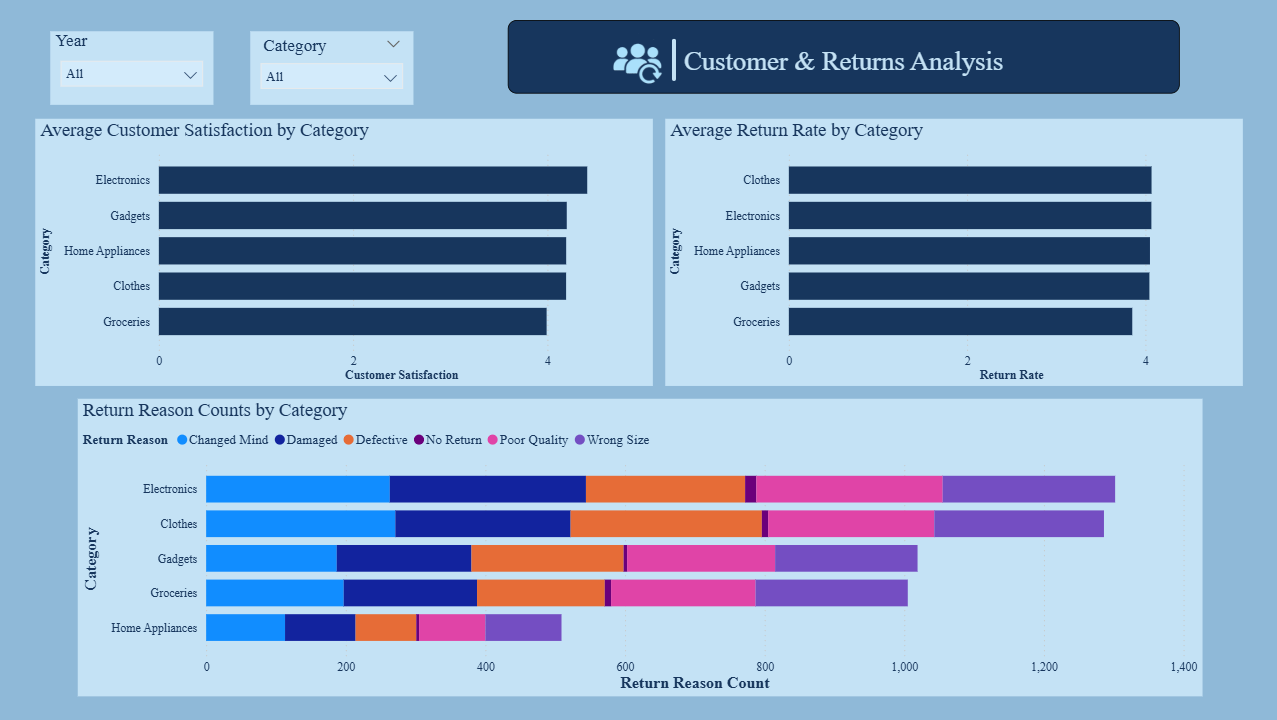

This screenshot's page, from the dashboard's own definition file:
{"tool":"powerbi","page":{"name":"Customer & Returns Analysis","canvas":[1280,720],"ordinal":2},"visuals":[{"type":"clusteredBarChart","title":"Average Customer Satisfaction by Category","fields":{"Category":["BrandX_India_Dataset_Analysis.Category"],"Y":["Avg(BrandX_India_Dataset_Analysis.Customer_Satisfaction)"]},"box":[36.2,118.8,617.5,267.5],"z":0},{"type":"barChart","title":"Return Reason Counts by Category ","fields":{"Category":["BrandX_India_Dataset_Analysis.Category"],"Series":["BrandX_India_Dataset_Analysis.Return_Reason"],"Y":["CountNonNull(BrandX_India_Dataset_Analysis.Return_Reason)"]},"box":[78.8,398.8,1125,297.5],"z":1000},{"type":"clusteredBarChart","title":"Average Return Rate by Category","fields":{"Category":["BrandX_India_Dataset_Analysis.Category"],"Y":["Avg(BrandX_India_Dataset_Analysis.Return_Rate)"]},"box":[666.2,118.8,577.5,267.5],"z":2000},{"type":"slicer","title":"Year","fields":{"Values":["BrandX_India_Dataset_Analysis.Year"]},"box":[50.7,31.4,162.9,73.6],"z":3000},{"type":"slicer","fields":{"Values":["BrandX_India_Dataset_Analysis.Category"]},"box":[250.9,31.4,162.9,73.6],"z":4000},{"type":"textbox","box":[509.1,20.5,672,73.6],"z":5000},{"type":"shape","box":[639.4,38.6,70,42.2],"z":6000},{"type":"image","box":[590,5,93.8,113.8],"z":7000}]}

Visuals, with their boxes in screenshot pixels (x1, y1, x2, y2), scaled from the page's 1280x720 canvas onto the 1277x720 screenshot:
"Average Customer Satisfaction by Category" clusteredBarChart: x1=36 y1=119 x2=652 y2=386
"Return Reason Counts by Category " barChart: x1=79 y1=399 x2=1201 y2=696
"Average Return Rate by Category" clusteredBarChart: x1=665 y1=119 x2=1241 y2=386
"Year" slicer: x1=51 y1=31 x2=213 y2=105
slicer - BrandX_India_Dataset_Analysis.Category: x1=250 y1=31 x2=413 y2=105
textbox: x1=508 y1=20 x2=1178 y2=94
shape: x1=638 y1=39 x2=708 y2=81
image: x1=589 y1=5 x2=682 y2=119
